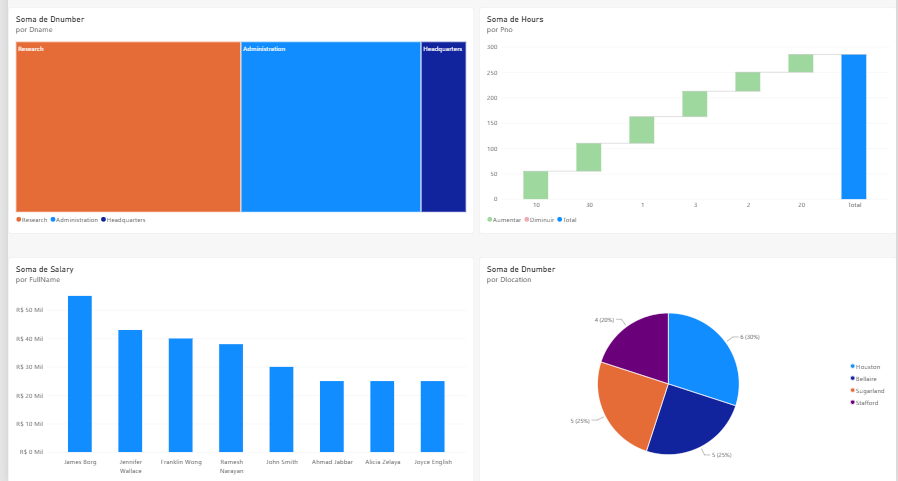

The page's visual inventory and layout, read from the dashboard file:
{"tool":"powerbi","page":{"name":"Página 1","canvas":[1920,1080],"ordinal":0},"visuals":[{"type":"treemap","fields":{"Group":["azure_company departament.Dname"],"Values":["Sum(azure_company departament.Dnumber)"]},"box":[0,49.7,1006.6,490.3],"z":0},{"type":"lineClusteredColumnComboChart","fields":{"Category":["azure_company employee.FullName"],"Y":["Sum(azure_company employee.Salary)"]},"box":[0,589.7,1006.6,490.3],"z":1},{"type":"waterfallChart","fields":{"Category":["azure_company works_on.Pno"],"Y":["Sum(azure_company works_on.Hours)"]},"box":[1017,50,903,490],"z":2},{"type":"pieChart","fields":{"Category":["azure_company dept_locations.Dlocation"],"Y":["Sum(azure_company dept_locations.Dnumber)"]},"box":[1017,590,903,490],"z":3}]}

Visuals, with their boxes on the page's 1920x1080 design canvas (x1, y1, x2, y2). These are canvas units, not pixel positions in the 898x481 screenshot, which may show the page scaled, cropped or inside an application window:
treemap - azure_company departament.Dname x Sum(azure_company departament.Dnumber): [0, 50, 1007, 540]
lineClusteredColumnComboChart - azure_company employee.FullName x Sum(azure_company employee.Salary): [0, 590, 1007, 1080]
waterfallChart - azure_company works_on.Pno x Sum(azure_company works_on.Hours): [1017, 50, 1920, 540]
pieChart - azure_company dept_locations.Dlocation x Sum(azure_company dept_locations.Dnumber): [1017, 590, 1920, 1080]
